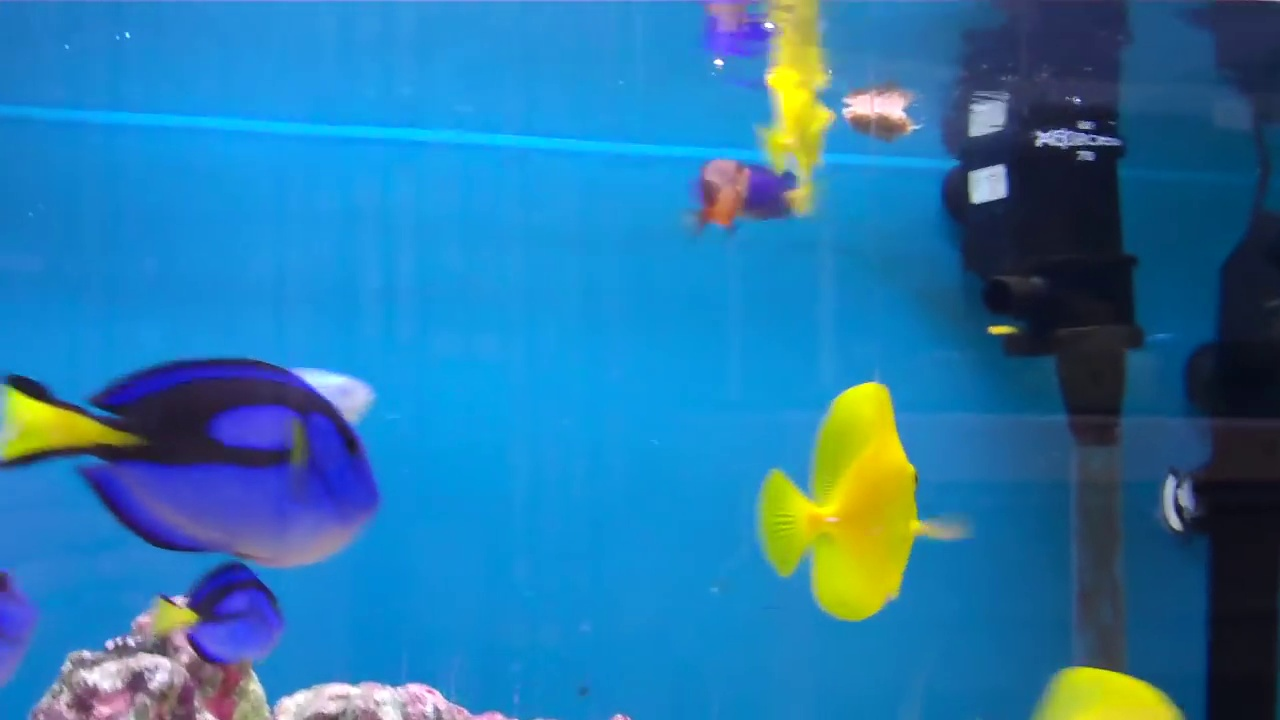blue tang surgeonfish: (0, 341, 411, 573), (149, 563, 307, 681)
saddle butterfly fish: (758, 384, 940, 610)
